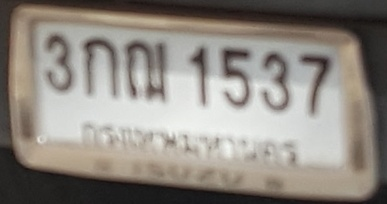num3: (41, 31, 75, 95)
txt01: (80, 36, 121, 100)
txt09: (123, 39, 169, 103)
